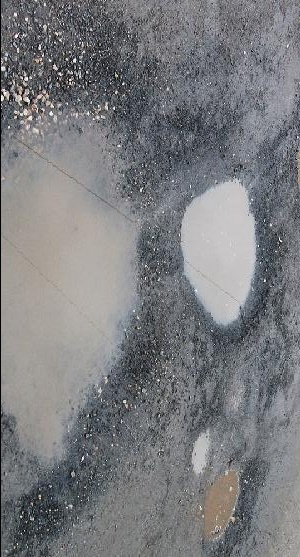pothole: (1, 79, 167, 526), (178, 165, 274, 339), (200, 455, 258, 556), (188, 427, 215, 476)
